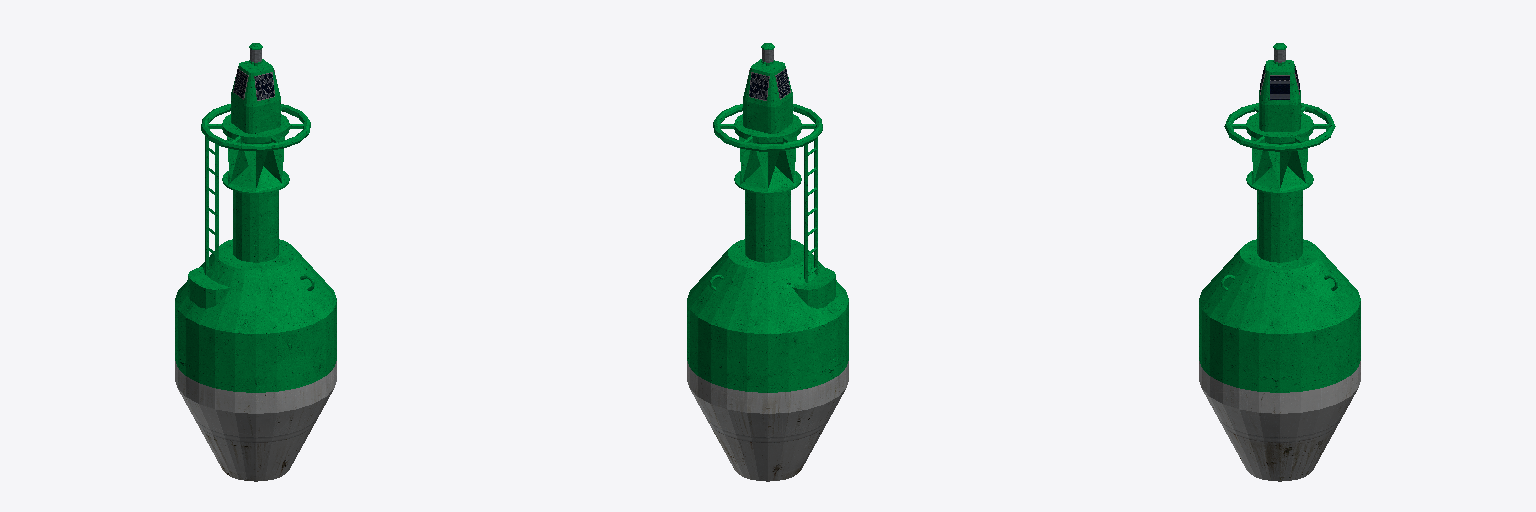
The picture shows the model from 3 angles: view 1: azimuth 30°, elevation 25°; view 2: azimuth 150°, elevation 25°; view 3: azimuth 270°, elevation 25°; orthographic projection.
Parts seen in each view (by area): view 1: BuoyMain, BuoyBelowSurface, BuoyHead, BuoyTower, BuoyReflector, BuoyLadder, SolarPanel; view 2: BuoyMain, BuoyBelowSurface, BuoyHead, BuoyTower, BuoyReflector, BuoyLadder, SolarPanel; view 3: BuoyMain, BuoyBelowSurface, BuoyHead, BuoyTower, BuoyReflector, SolarPanel.
Boxes of the visible parts, box(x1,y1,x2,y2) form: BuoyMain: box(175, 239, 336, 392); BuoyBelowSurface: box(175, 361, 336, 481); BuoyHead: box(201, 43, 310, 151); BuoyTower: box(222, 171, 289, 262); BuoyReflector: box(227, 136, 284, 191); BuoyLadder: box(205, 136, 218, 281); SolarPanel: box(233, 68, 276, 100); BuoyMain: box(687, 239, 848, 392); BuoyBelowSurface: box(687, 361, 848, 481); BuoyHead: box(713, 43, 822, 151); BuoyTower: box(734, 171, 801, 262); BuoyReflector: box(739, 136, 796, 191); BuoyLadder: box(804, 138, 817, 282); SolarPanel: box(747, 68, 790, 100); BuoyMain: box(1199, 239, 1360, 392); BuoyBelowSurface: box(1199, 361, 1360, 481); BuoyHead: box(1224, 43, 1335, 151); BuoyTower: box(1246, 171, 1313, 262); BuoyReflector: box(1251, 136, 1308, 191); SolarPanel: box(1260, 66, 1299, 99).
Size of the model in its own units: 2.5 by 7.19 by 2.5.
3 materials, 3 textured.